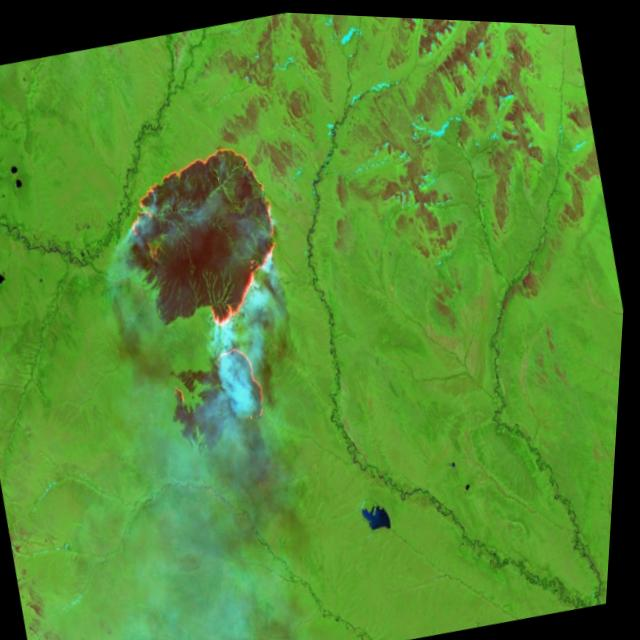fire: (110, 126, 307, 350), (206, 335, 277, 430), (166, 374, 198, 413)
